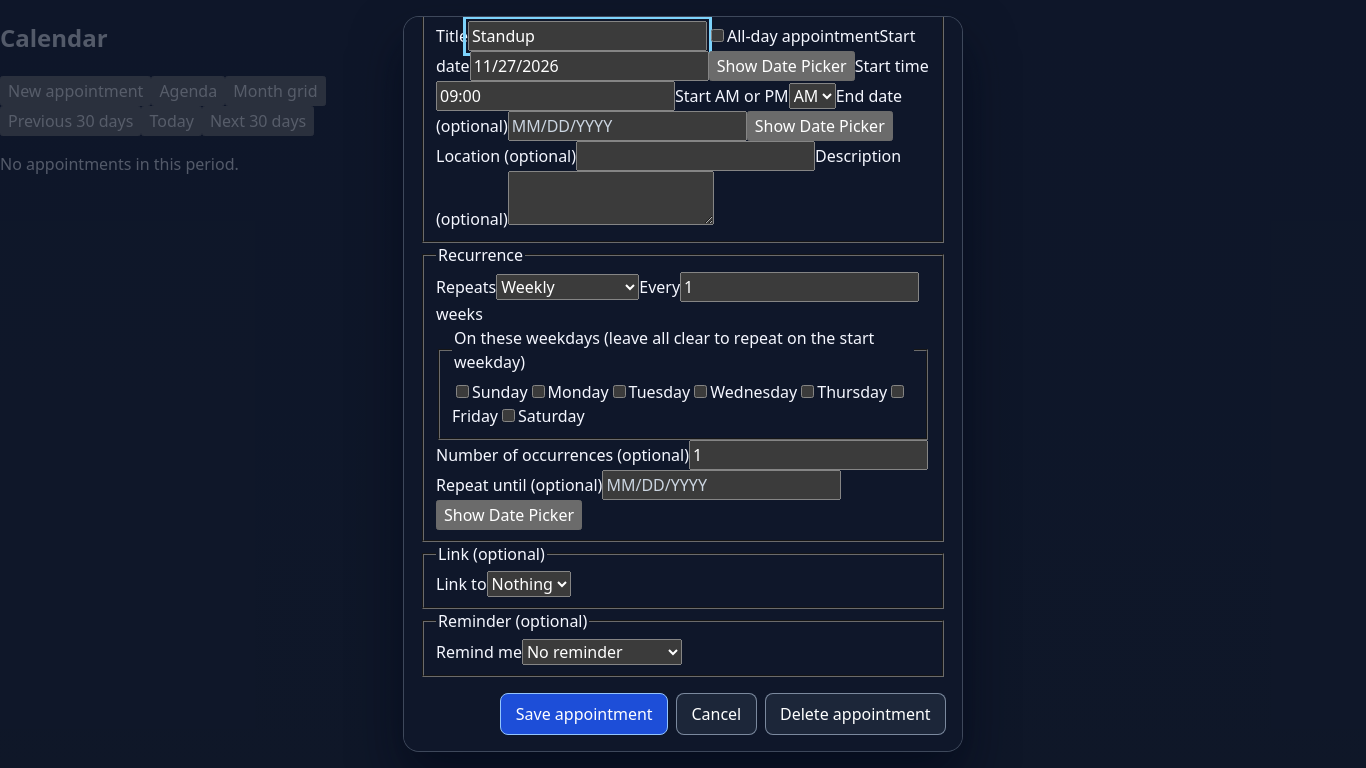
Test: calendar screen › offers only the whole series when no occurrence is left to delete singly
The width and height of the screenshot is (1366, 768).
(page scrolled)
Expected: the dialog "Edit appointment" is shown, left=403, top=16, right=963, bottom=752
Click the button "Delete appointment". click: [855, 714]
box: left=765, top=693, right=946, bottom=735
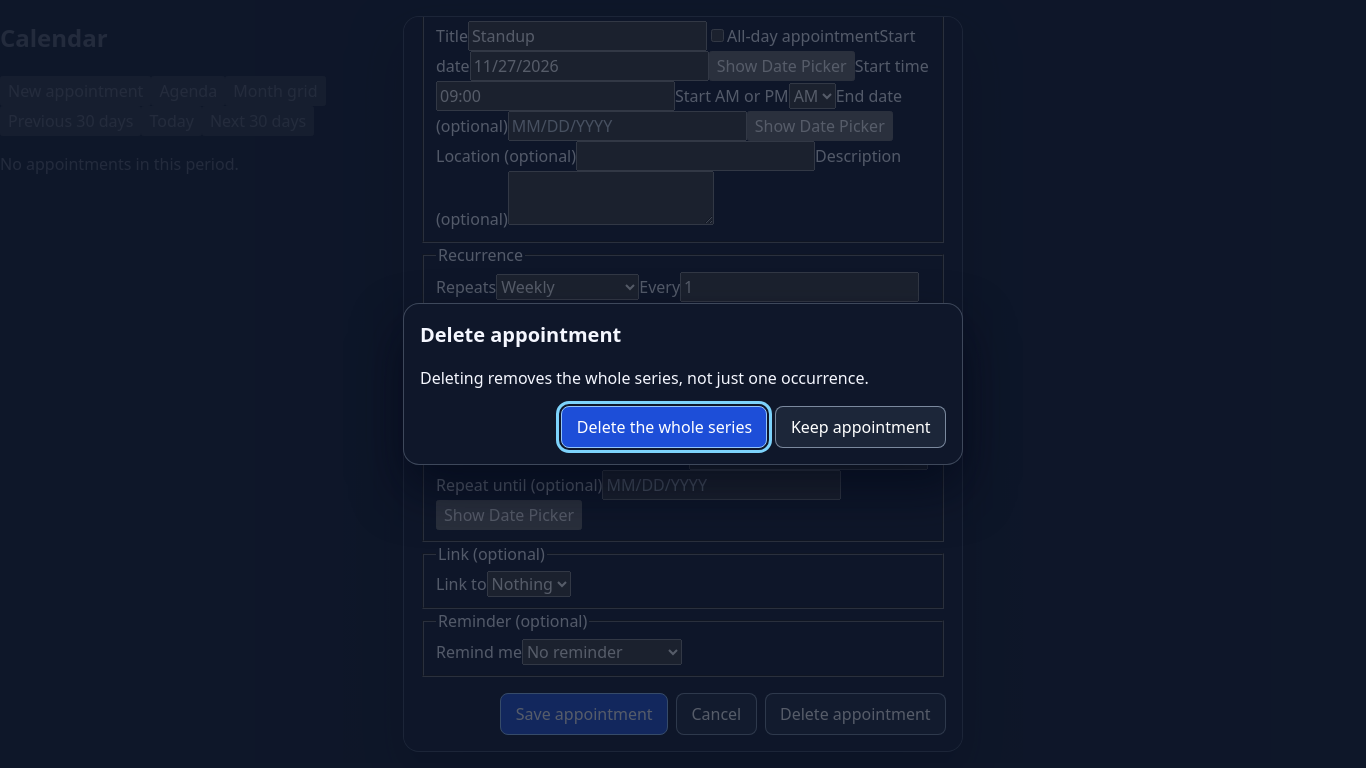
Expected: the text "Deleting removes the whole series, not just one occurrence." is shown, left=420, top=366, right=946, bottom=390
